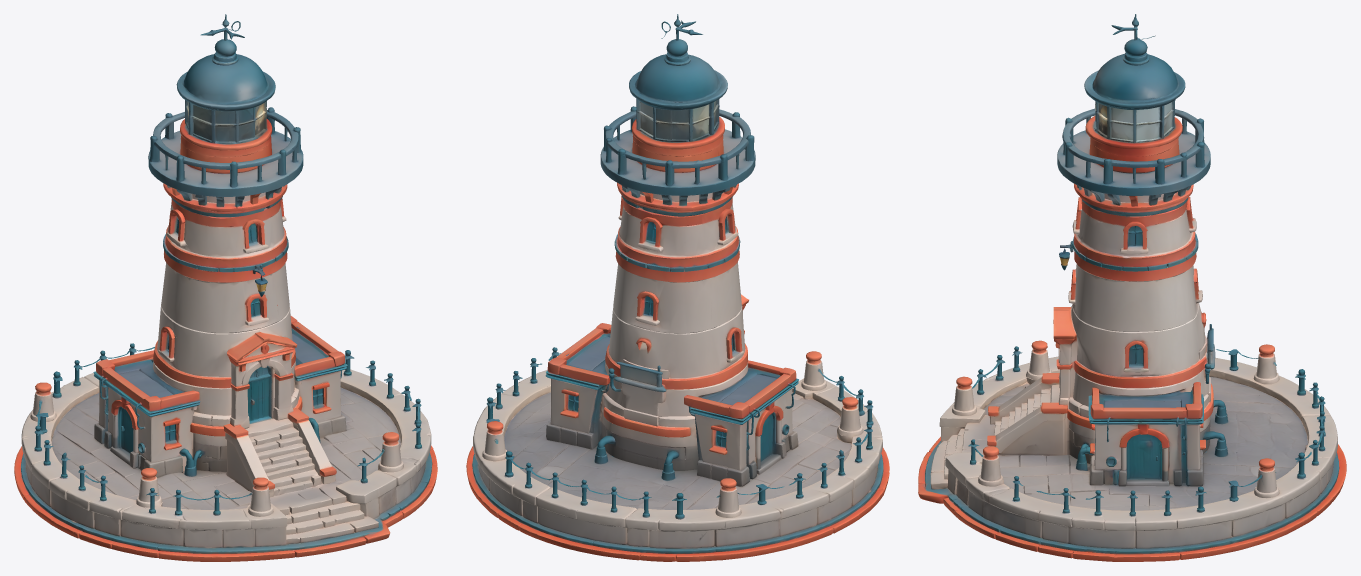
The model's file is lighthouse-cartoon-desktop-decimated.glb.
3 renders of one model, left to right at view 1: azimuth 30°, elevation 25°; view 2: azimuth 150°, elevation 25°; view 3: azimuth 270°, elevation 25°, orthographic.
Visible parts, largest first — view 1: model; view 2: model; view 3: model.
Part boxes in pixels (box(x1,y1,x2,y2)): model: box(14, 14, 437, 561); model: box(466, 14, 889, 561); model: box(918, 14, 1346, 561).
Bounding box in the file's own units: 1.58 × 1.9 × 1.6.
Materials: 1 (1 with a texture image).
